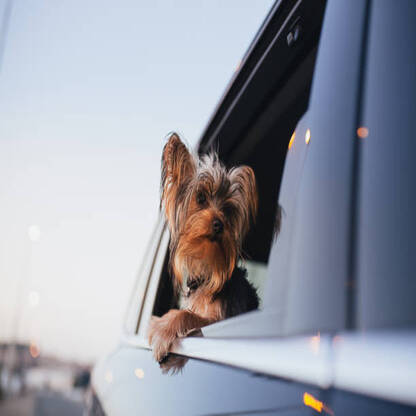yorkshire: (148, 130, 262, 366)
